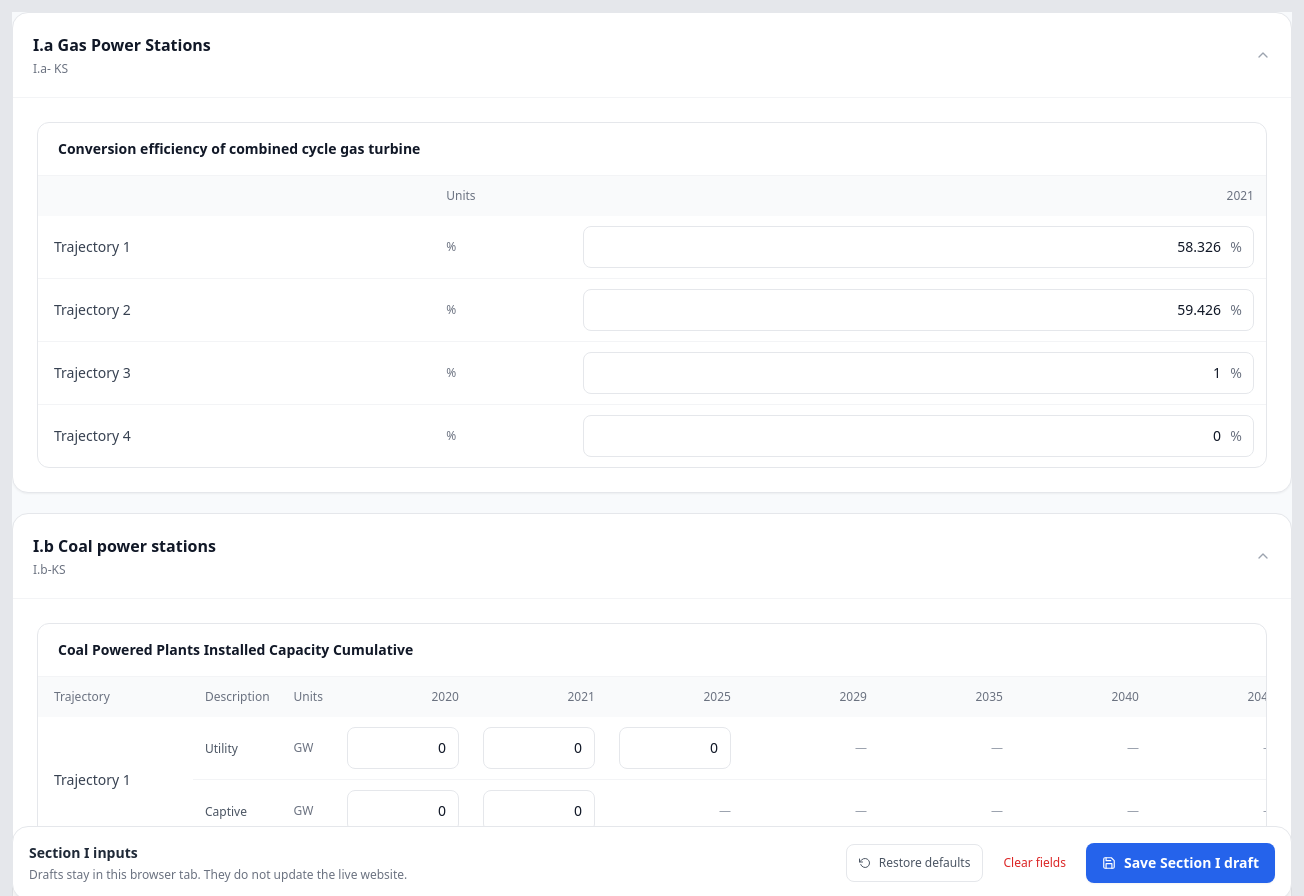
Test: storage failure does not falsely report a saved draft
Click the button "Save Section I draft".
click(1180, 863)  # box [1086, 843, 1275, 883]
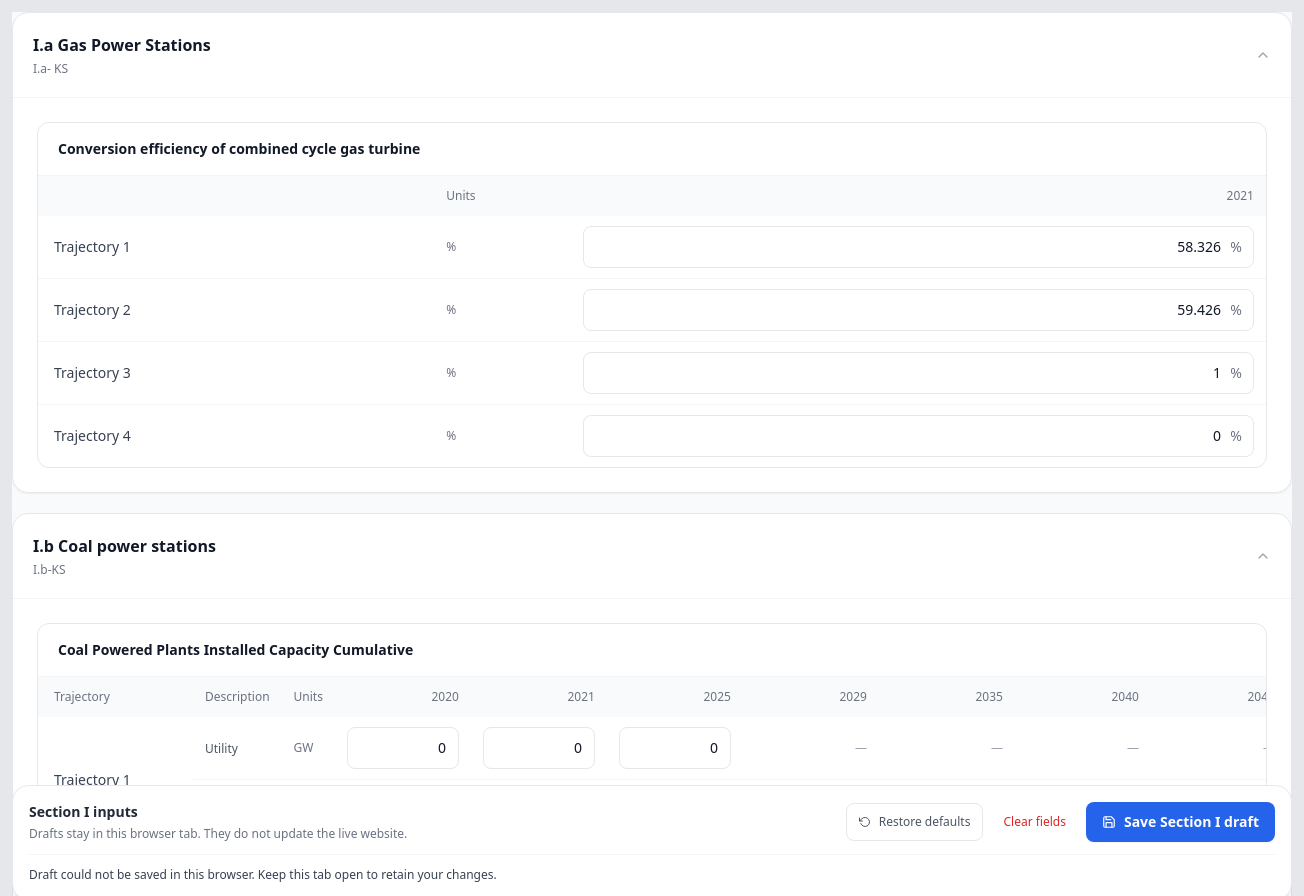
Check: the text "Draft could not be saved" is shown, box [29, 866, 497, 883]
